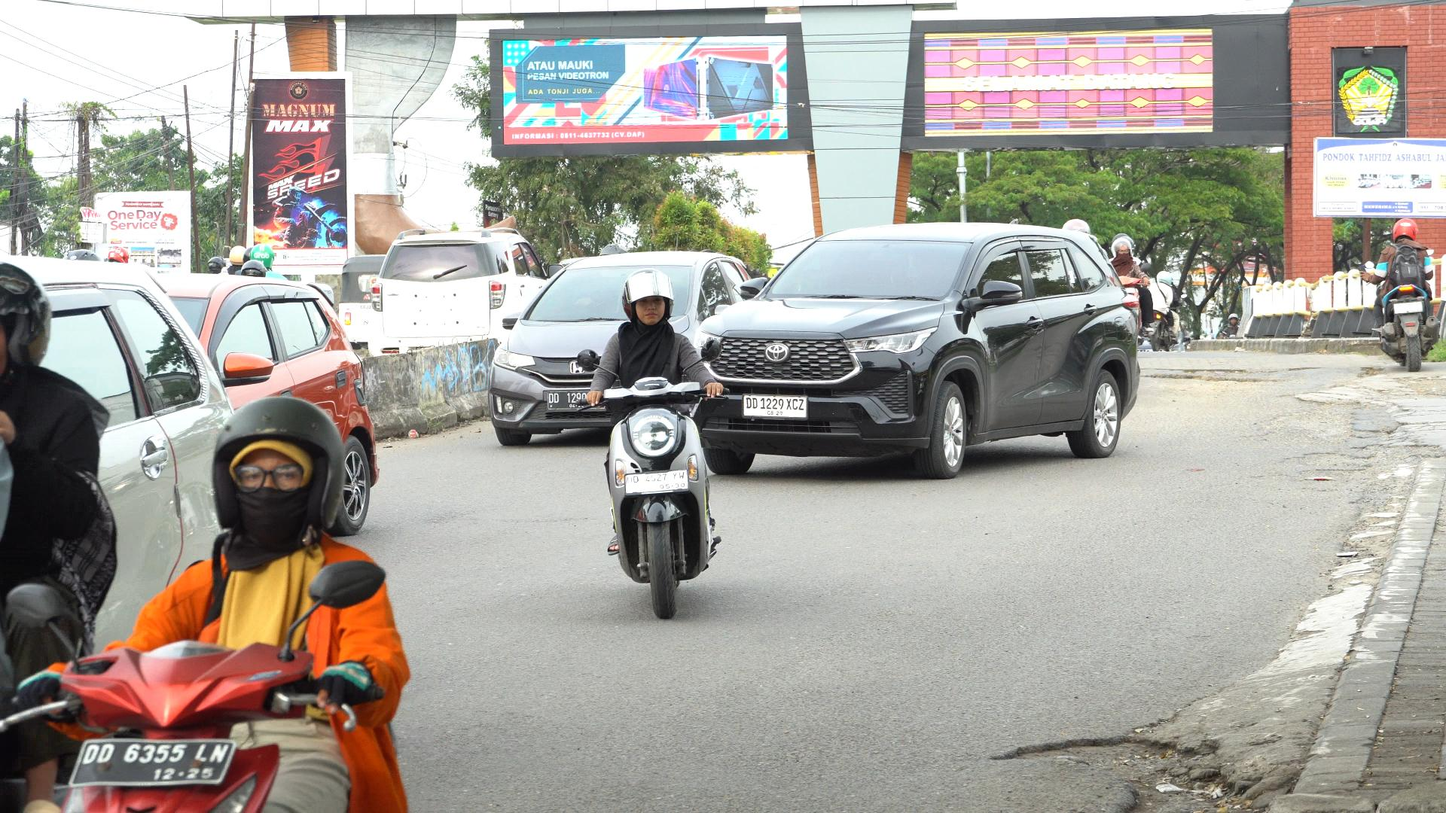number-plate: (75, 730, 233, 789), (621, 471, 685, 496)
